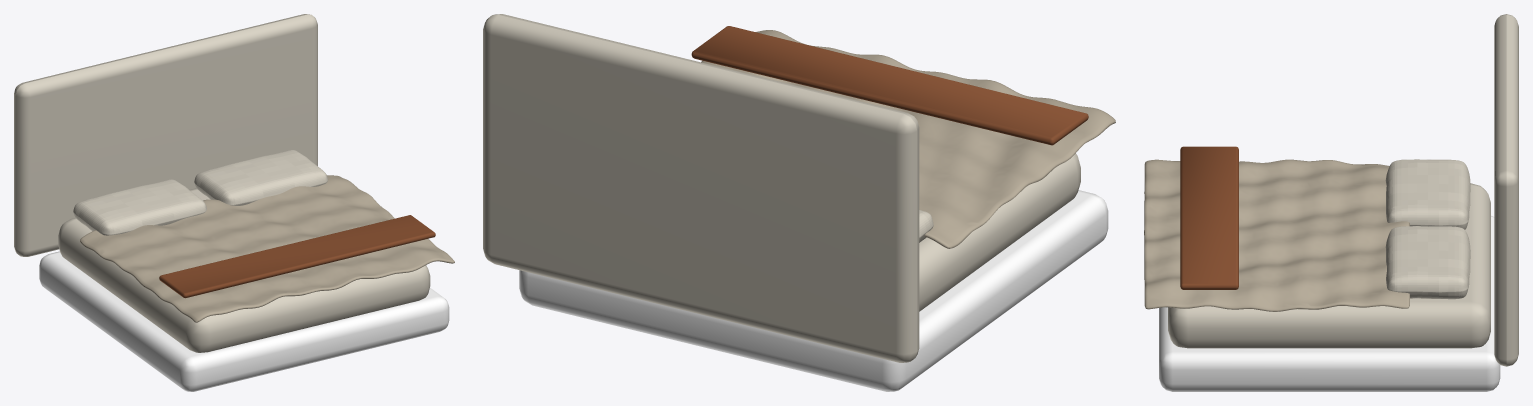
The model's file is bed.glb.
3 views of the same model, side by side, from view 1: azimuth 30°, elevation 25°; view 2: azimuth 150°, elevation 25°; view 3: azimuth 270°, elevation 25° (orthographic). The views are drawn at different scales.
Parts seen in each view (by area): view 1: Upholstered headboard.002, Natural linen duvet with fine folds.002, Floating bed plinth.002, Tailored mattress.002, Tobacco bed throw.002, Down pillow.004, Down pillow.005; view 2: Upholstered headboard.002, Floating bed plinth.002, Natural linen duvet with fine folds.002, Tobacco bed throw.002, Tailored mattress.002; view 3: Natural linen duvet with fine folds.002, Tailored mattress.002, Floating bed plinth.002, Upholstered headboard.002, Tobacco bed throw.002, Down pillow.005, Down pillow.004.
Boxes of the visible parts, x1,y1,x2,y2 form: Upholstered headboard.002: (14,14,317,256); Natural linen duvet with fine folds.002: (80,175,454,322); Floating bed plinth.002: (39,251,449,391); Tailored mattress.002: (58,188,430,352); Tobacco bed throw.002: (159,215,435,298); Down pillow.004: (73,179,206,235); Down pillow.005: (194,150,328,205); Upholstered headboard.002: (483,14,919,362); Floating bed plinth.002: (519,190,1108,391); Natural linen duvet with fine folds.002: (701,30,1115,248); Tobacco bed throw.002: (691,26,1088,145); Tailored mattress.002: (919,153,1080,311); Natural linen duvet with fine folds.002: (1144,159,1409,311); Tailored mattress.002: (1168,183,1490,348); Floating bed plinth.002: (1159,216,1500,391); Upholstered headboard.002: (1494,14,1518,366); Tobacco bed throw.002: (1180,146,1238,289); Down pillow.005: (1385,226,1470,299); Down pillow.004: (1385,159,1470,229).
Size of the model in its own units: 2.55 by 1.65 by 2.44.
